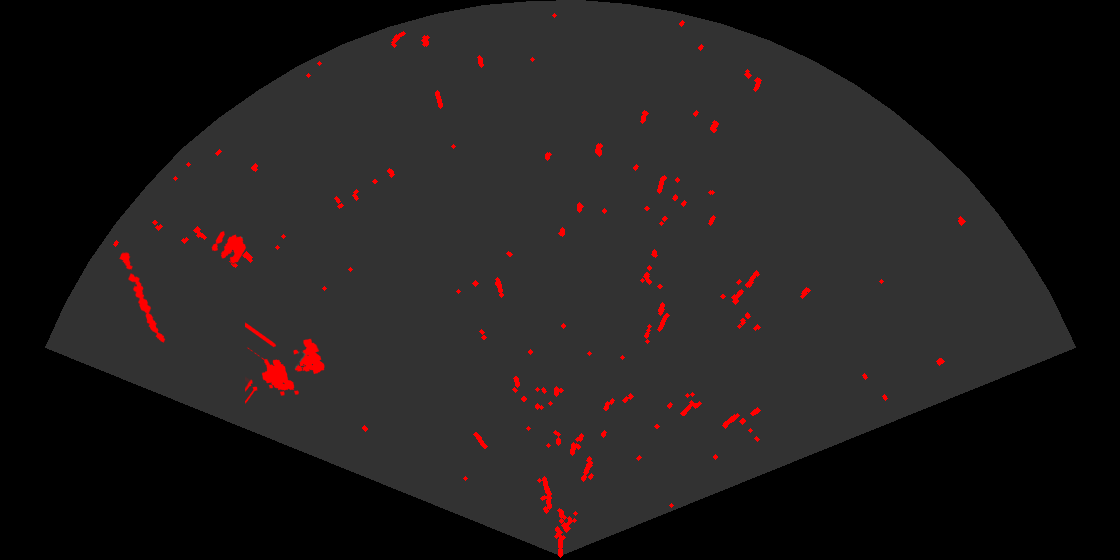ball: (210, 229, 248, 265)
cage: (245, 321, 326, 405)
chain: (118, 250, 167, 344)
